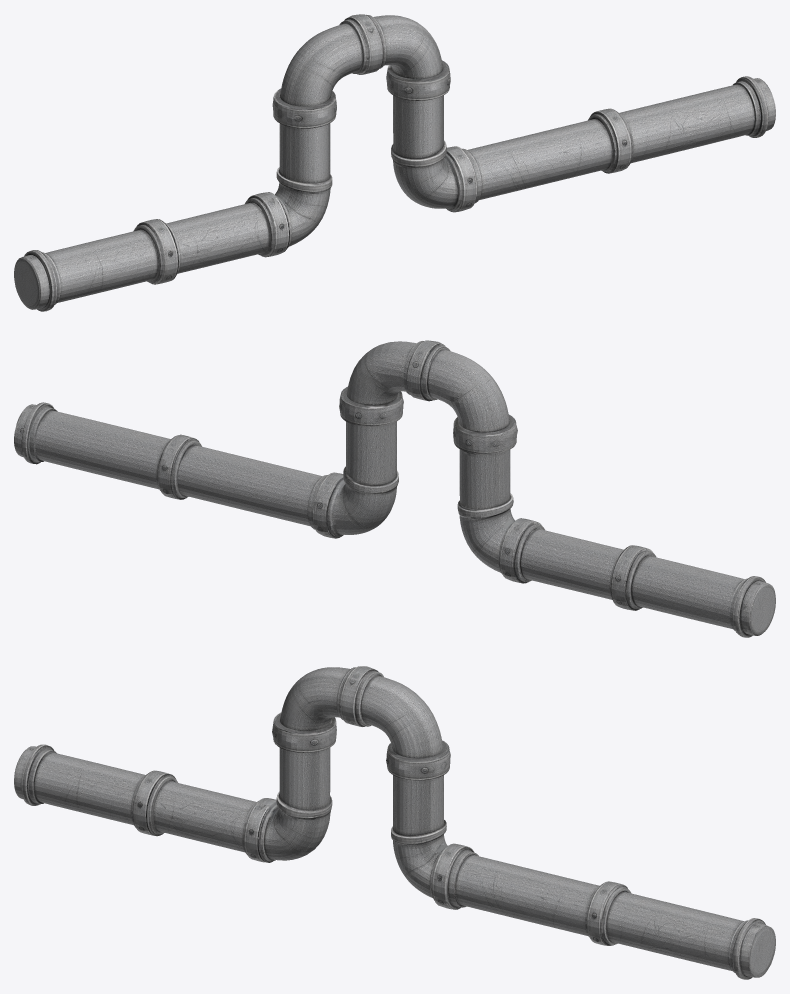
File: Tuberia.fbx
3 renders of one model, top to bottom at view 1: azimuth 30°, elevation 25°; view 2: azimuth 150°, elevation 25°; view 3: azimuth 330°, elevation 25°, orthographic.
Visible parts, largest first — view 1: temp; view 2: temp; view 3: temp.
Part boxes in pixels (box(x1,y1,x2,y2)): temp: box(14, 14, 775, 311); temp: box(14, 340, 775, 637); temp: box(14, 666, 775, 979).
Size of the model in its own units: 190 by 52.95 by 14.68.
Materials: 1 (1 with a texture image).
